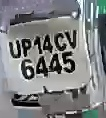1: (33, 35, 43, 55)
4: (36, 57, 49, 78), (50, 55, 62, 75), (42, 35, 53, 54)
5: (62, 51, 76, 75)
6: (20, 58, 35, 80)
C: (53, 33, 67, 52)
P: (22, 39, 33, 58)
U: (8, 39, 22, 59)
V: (64, 30, 78, 50)
